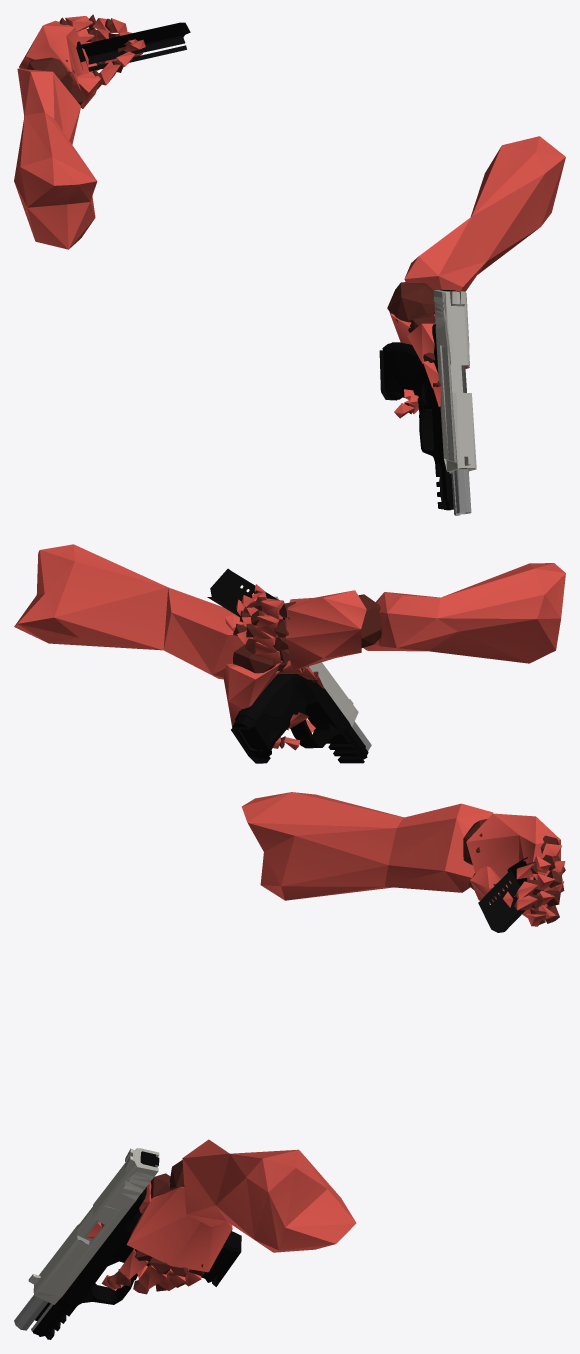
Rendered from M&P9reloadNormal1lowP_000123.obj.
The picture shows the model from 3 angles, top to bottom: view 1: azimuth 30°, elevation 25°; view 2: azimuth 150°, elevation 25°; view 3: azimuth 270°, elevation 25°; orthographic projection. The views are drawn at different scales.
Visible parts, largest first — view 1: Beta_Surface.001_Beta_Surface.002, slide_平面.002, triger_平面.001, Beta_Joints.001_Beta_Joints.002, magazine.002_平面.005; view 2: Beta_Surface.001_Beta_Surface.002, triger_平面.001, Beta_Joints.001_Beta_Joints.002, magazine.002_平面.005, slide_平面.002, magazine_平面.003; view 3: Beta_Surface.001_Beta_Surface.002, slide_平面.002, triger_平面.001, Beta_Joints.001_Beta_Joints.002, magazine.002_平面.005.
Part boxes in pixels (x1,y1,x2,y2): Beta_Surface.001_Beta_Surface.002: (14,16,565,418); slide_平面.002: (433,289,476,473); triger_平面.001: (382,324,471,515); Beta_Joints.001_Beta_Joints.002: (27,14,440,414); magazine.002_平面.005: (76,22,190,71); Beta_Surface.001_Beta_Surface.002: (14,544,565,750); triger_平面.001: (232,666,371,763); Beta_Joints.001_Beta_Joints.002: (233,590,381,748); magazine.002_平面.005: (207,568,284,619); slide_平面.002: (274,596,358,726); magazine_平面.003: (231,727,270,763); Beta_Surface.001_Beta_Surface.002: (86,792,565,1290); slide_平面.002: (28,1148,159,1304); triger_平面.001: (14,1187,241,1339); Beta_Joints.001_Beta_Joints.002: (101,819,565,1294); magazine.002_平面.005: (478,857,542,932).
Bounding box in the file's own units: 108 × 72.63 × 87.63.
